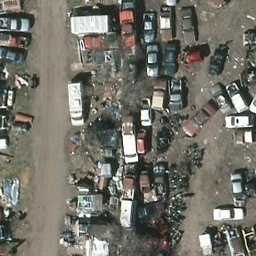car: (181, 97, 220, 141), (145, 40, 160, 80), (69, 83, 84, 123), (124, 121, 139, 161), (163, 37, 178, 77), (181, 6, 196, 46), (179, 4, 194, 44), (212, 205, 246, 221), (1, 217, 5, 251)
